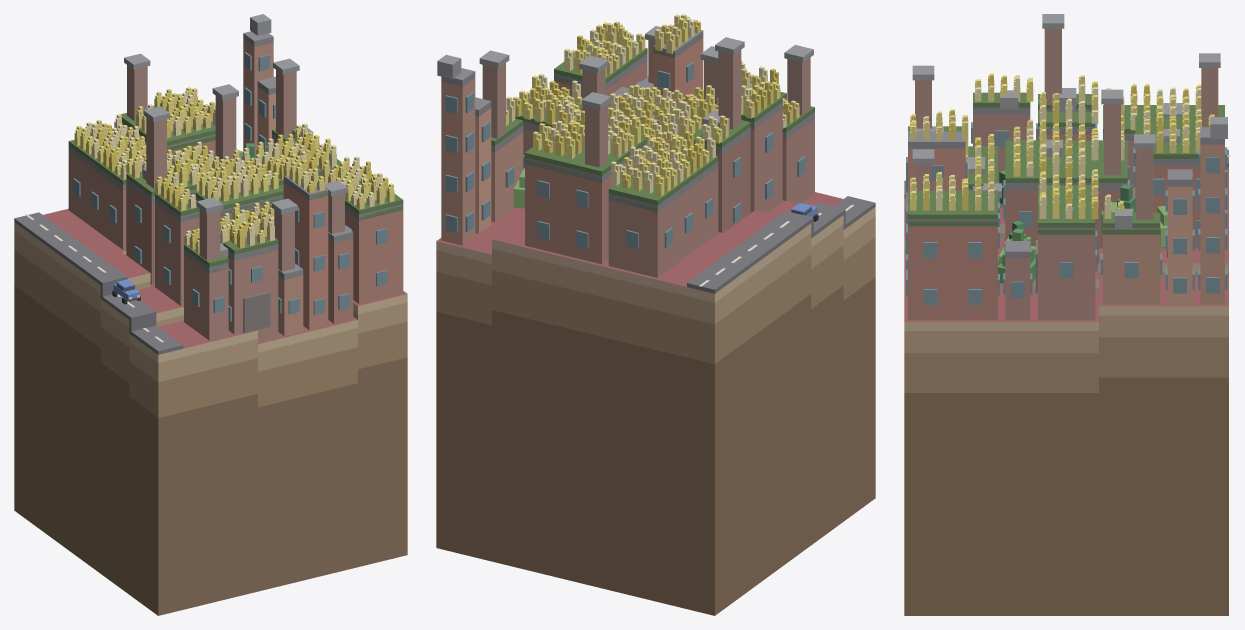
Rendered from block_26_urbanfarm_75.glb.
3 renders of one model, left to right at view 1: azimuth 30°, elevation 25°; view 2: azimuth 150°, elevation 25°; view 3: azimuth 270°, elevation 25°, orthographic. The views are drawn at different scales.
Visible parts, largest first — view 1: Patch_UpperRight_b26_UF, Factories_UpperRight_b26_UF, UFR_Factories_UpperRight_b26_UF, Roads_UpperRight_b26_UF; view 2: Patch_UpperRight_b26_UF, Factories_UpperRight_b26_UF, UFR_Factories_UpperRight_b26_UF, Roads_UpperRight_b26_UF; view 3: Patch_UpperRight_b26_UF, Factories_UpperRight_b26_UF, UFR_Factories_UpperRight_b26_UF, FTree_13_UF.
Part boxes in pixels (x1,y1,x2,y2): Patch_UpperRight_b26_UF: (14,208,407,615); Factories_UpperRight_b26_UF: (68,14,403,342); UFR_Factories_UpperRight_b26_UF: (68,106,403,273); Roads_UpperRight_b26_UF: (14,212,183,354); Patch_UpperRight_b26_UF: (436,192,875,615); Factories_UpperRight_b26_UF: (437,26,814,277); UFR_Factories_UpperRight_b26_UF: (491,33,814,211); Roads_UpperRight_b26_UF: (687,196,875,293); Patch_UpperRight_b26_UF: (904,167,1228,615); Factories_UpperRight_b26_UF: (905,14,1227,320); UFR_Factories_UpperRight_b26_UF: (908,92,1224,234); FTree_13_UF: (998,228,1035,283).
Size of the model in its own units: 9.5 by 16.01 by 9.55.
